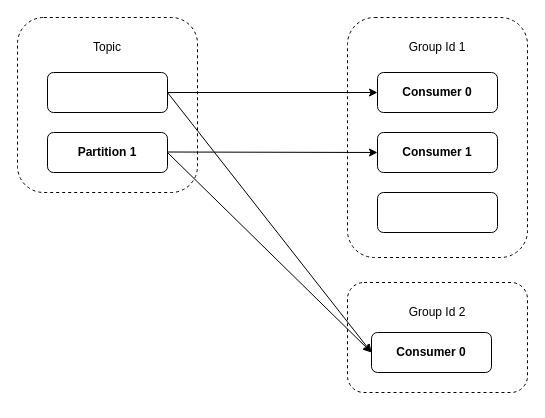
This 545x418 diagram has some shape labels left out. Here are the shapes that lost their labels. From the top down, the centre of each, then its label:
At pixel 107 92: "Partition 0".
At pixel 437 212: "Consumer 2".
